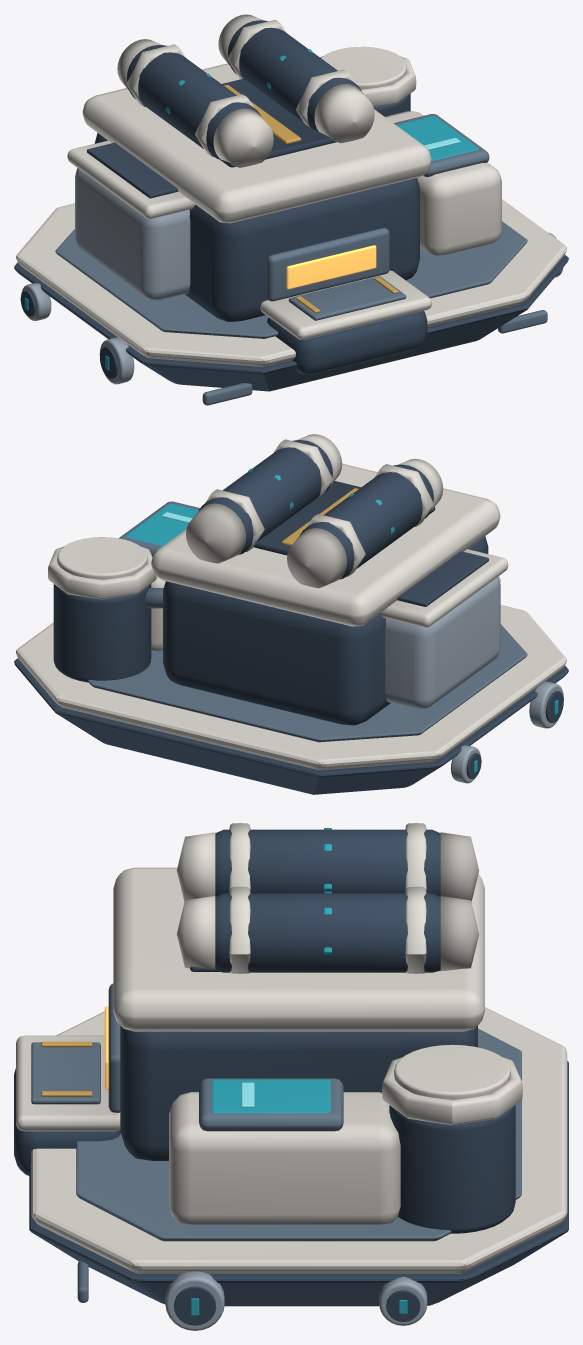
Rendered from interstellar_refinery_lv3.glb.
3 views of the same model, one above another, from view 1: azimuth 30°, elevation 25°; view 2: azimuth 150°, elevation 25°; view 3: azimuth 270°, elevation 25° (orthographic). The views are drawn at different scales.
Parts seen in each view (by area): view 1: Structure; view 2: Structure; view 3: Structure.
Part boxes in pixels (x1,y1,x2,y2): Structure: [14, 14, 568, 405]; Structure: [14, 434, 568, 794]; Structure: [14, 823, 568, 1330].
Size of the model in its own units: 7.22 by 3.78 by 5.97.
